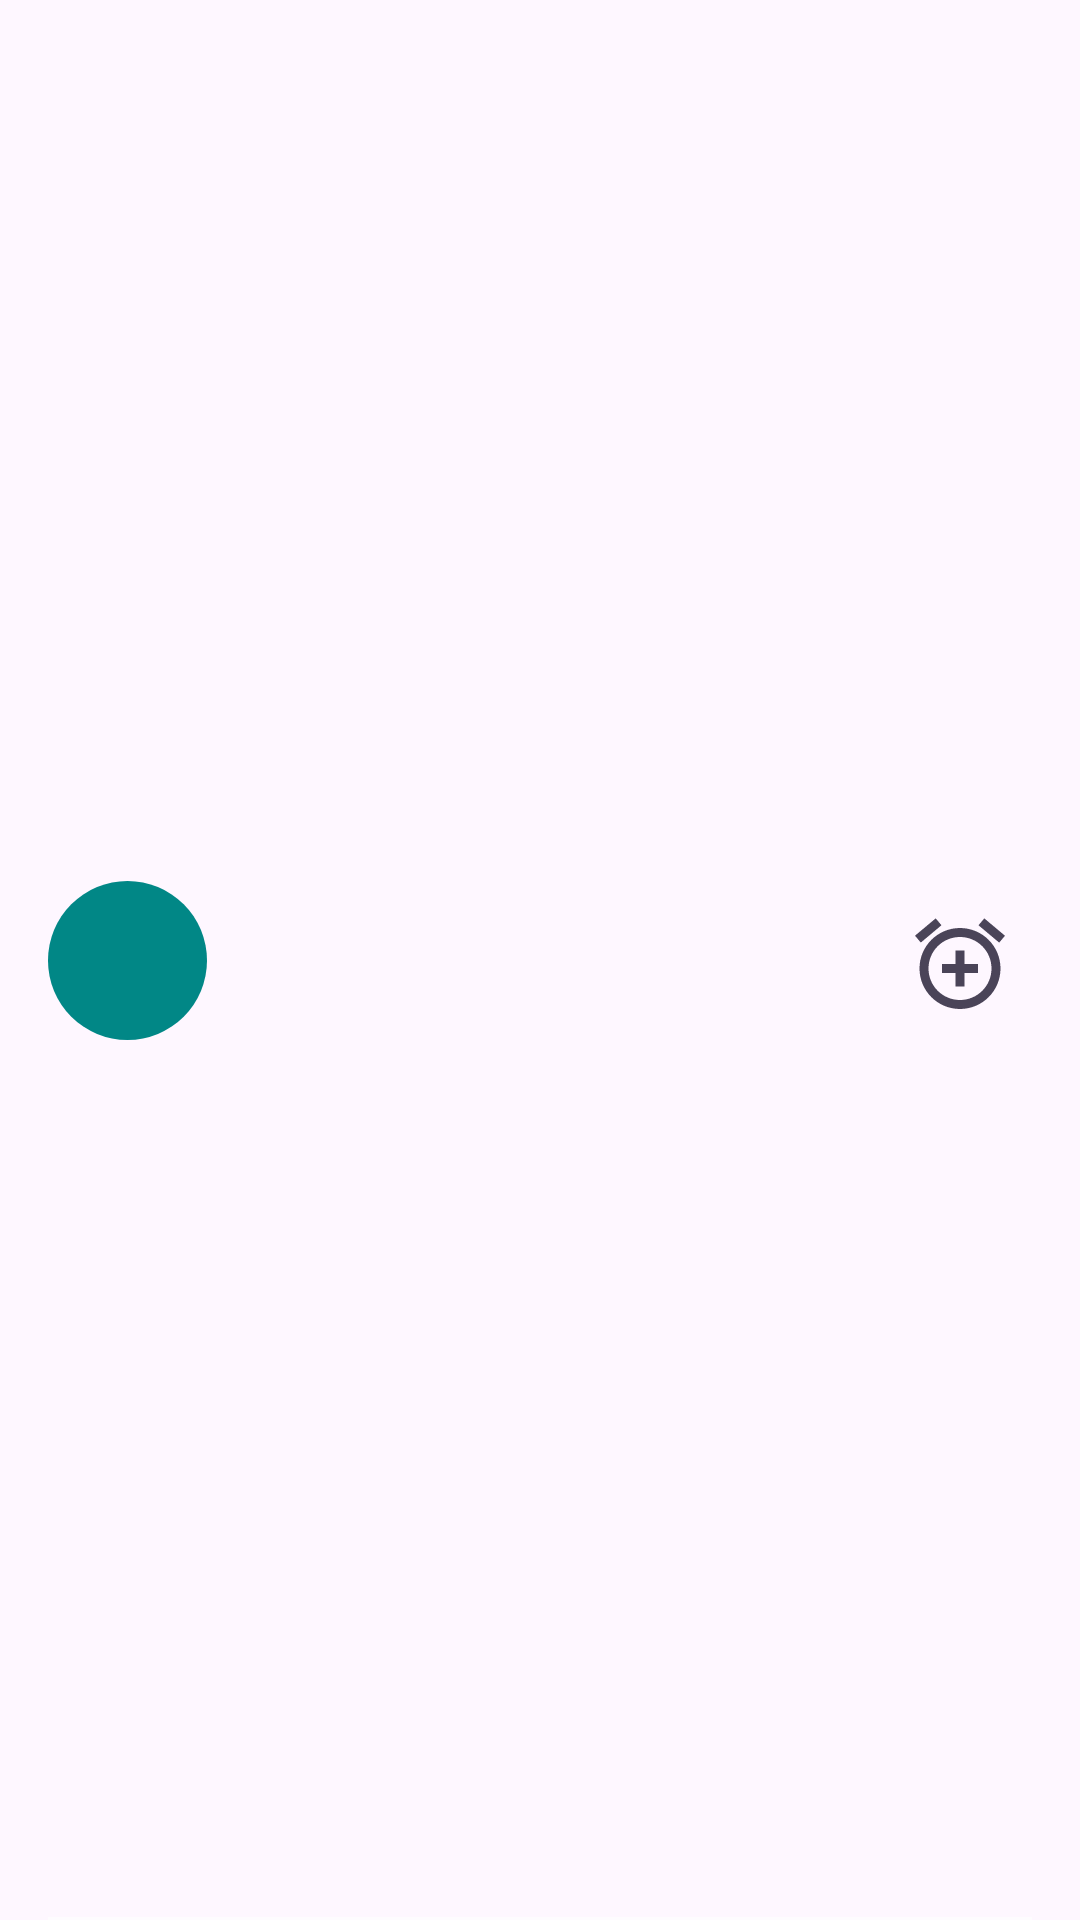

Named icons in this screenshot (1080 × 1920) and their centers, (x=x, y=y):
add reminder: (x=960, y=963)
